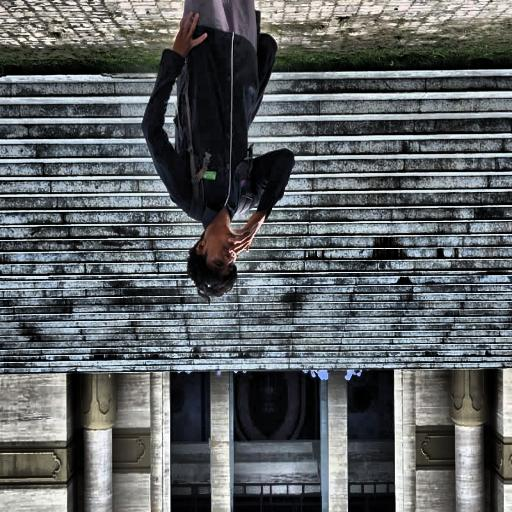Rokok: (196, 209, 267, 276)
